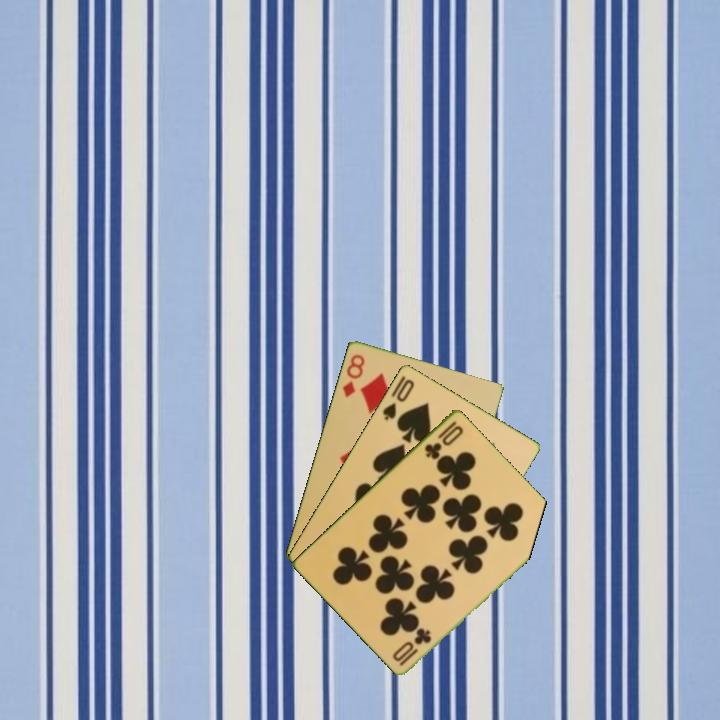10c: (421, 417, 466, 462), (395, 625, 434, 668)
10s: (379, 372, 417, 423)
8d: (339, 350, 367, 400)
